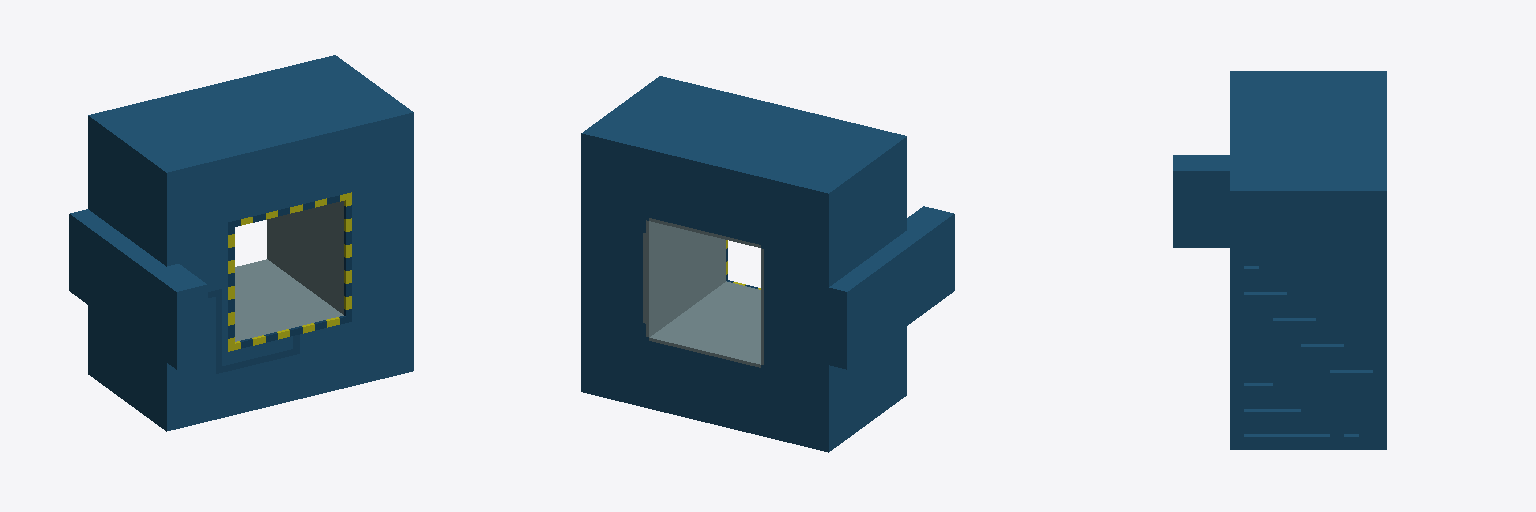
3 renders of one model, left to right at view 1: azimuth 30°, elevation 25°; view 2: azimuth 150°, elevation 25°; view 3: azimuth 270°, elevation 25°, orthographic.
Size of the model in its own units: 86 by 80 by 60.
Materials: 1 (1 with a texture image).